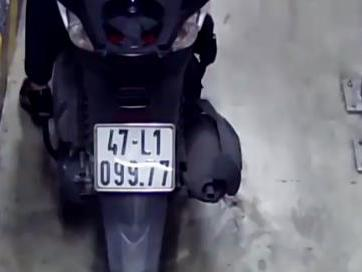num_plate: (95, 125, 175, 193)
